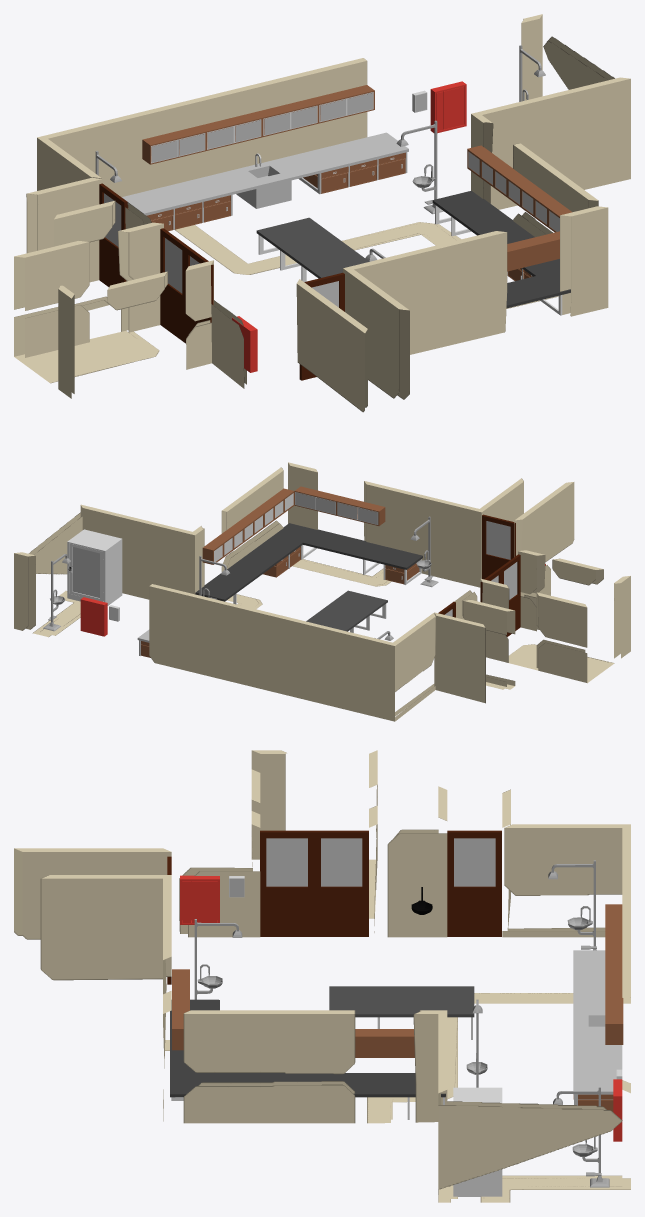
The model's file is Laboratorium Map.fbx.
3 views of the same model, one above another, from view 1: azimuth 30°, elevation 25°; view 2: azimuth 150°, elevation 25°; view 3: azimuth 270°, elevation 25° (orthographic). The views are drawn at different scales.
Parts seen in each view (by area): view 1: Plane, Meja 2, Cube, Meja Crafting, Rak Kaca 2, Rak Transparant 2, Rak Solid, Pintu 2, Laci 1, Pintu 4, Apar 1, Laci 4 (+5 smaller); view 2: Plane, Cube, Lemari, Rak Solid, Meja Crafting, Pintu 3, Lemari Kaca, Rak Transparant, Rak Kaca, Apar 1, Pintu, Shower 3 (+3 smaller); view 3: Plane, Pintu 4, Pintu 2, Pintu, Meja 2, Cube, Meja Crafting, Rak Transparant 2, Apar 2, Lemari, Rak Solid, Rak Transparant (+3 smaller).
Part boxes in pixels (bbox=[...]): Plane: bbox=[14, 14, 630, 412]; Meja 2: bbox=[121, 132, 408, 229]; Cube: bbox=[432, 190, 570, 315]; Meja Crafting: bbox=[256, 217, 368, 281]; Rak Kaca 2: bbox=[152, 93, 372, 162]; Rak Transparant 2: bbox=[142, 85, 374, 164]; Rak Solid: bbox=[467, 145, 572, 232]; Pintu 2: bbox=[160, 228, 188, 342]; Laci 1: bbox=[303, 152, 405, 193]; Pintu 4: bbox=[99, 183, 127, 286]; Apar 1: bbox=[430, 81, 466, 133]; Laci 4: bbox=[127, 195, 230, 231]; Plane: bbox=[14, 462, 630, 721]; Cube: bbox=[195, 523, 422, 604]; Lemari: bbox=[67, 529, 122, 605]; Rak Solid: bbox=[202, 488, 294, 564]; Meja Crafting: bbox=[306, 590, 387, 632]; Pintu 3: bbox=[482, 514, 515, 579]; Lemari Kaca: bbox=[73, 547, 99, 597]; Rak Transparant: bbox=[294, 486, 385, 525]; Rak Kaca: bbox=[295, 492, 377, 524]; Apar 1: bbox=[80, 597, 107, 636]; Pintu: bbox=[500, 554, 520, 636]; Shower 3: bbox=[410, 516, 438, 587]; Plane: bbox=[14, 750, 630, 1202]; Pintu 4: bbox=[447, 830, 501, 936]; Pintu 2: bbox=[314, 830, 368, 936]; Pintu: bbox=[260, 830, 314, 936]; Meja 2: bbox=[573, 950, 622, 1105]; Cube: bbox=[170, 999, 445, 1119]; Meja Crafting: bbox=[329, 986, 474, 1039]; Rak Transparant 2: bbox=[605, 904, 623, 1044]; Apar 2: bbox=[180, 875, 219, 924]; Lemari: bbox=[453, 1087, 502, 1196]; Rak Solid: bbox=[355, 1029, 414, 1057]; Rak Transparant: bbox=[172, 969, 189, 1050].
Size of the model in its own units: 3453 by 521 by 2623.
